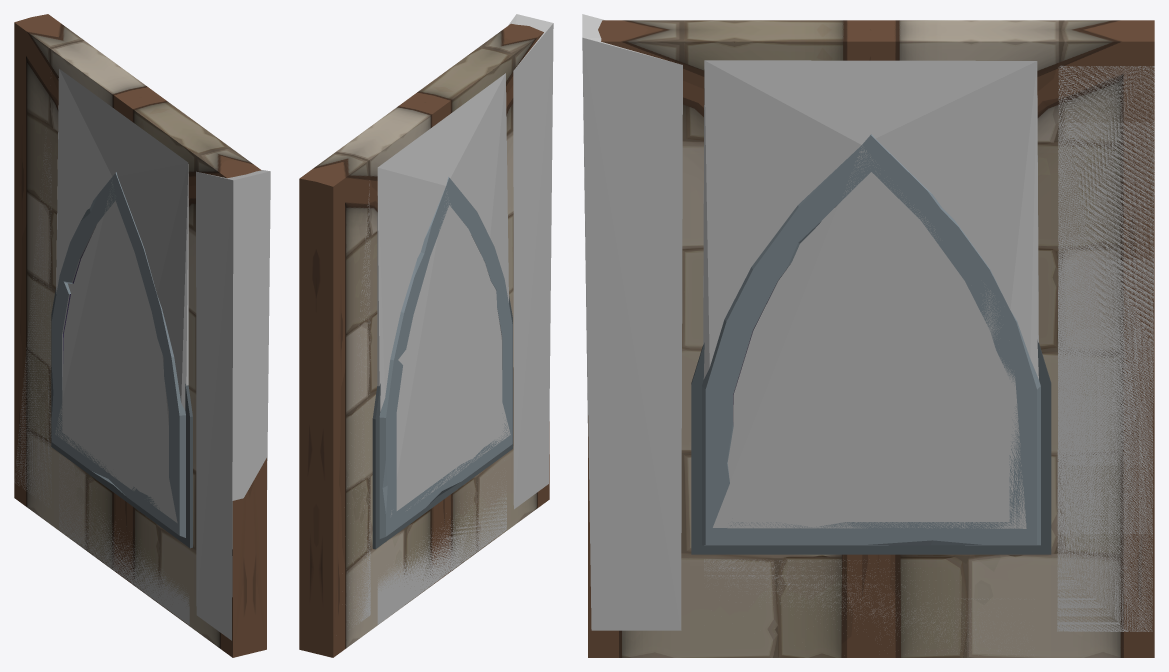
Rendered from SM_Bld_Window_04.fbx.
3 renders of one model, left to right at view 1: azimuth 30°, elevation 25°; view 2: azimuth 150°, elevation 25°; view 3: azimuth 270°, elevation 25°, orthographic. The views are drawn at different scales.
Visible parts, largest first — view 1: SM_Bld_Window_04_ConvexHulls, SM_Bld_Window_04; view 2: SM_Bld_Window_04, SM_Bld_Window_04_ConvexHulls; view 3: SM_Bld_Window_04_ConvexHulls, SM_Bld_Window_04.
Boxes of the visible parts, bbox=[...] form: SM_Bld_Window_04_ConvexHulls: bbox=[14, 69, 270, 640]; SM_Bld_Window_04: bbox=[14, 14, 266, 657]; SM_Bld_Window_04: bbox=[299, 23, 549, 657]; SM_Bld_Window_04_ConvexHulls: bbox=[349, 14, 553, 624]; SM_Bld_Window_04_ConvexHulls: bbox=[582, 14, 1154, 651]; SM_Bld_Window_04: bbox=[588, 20, 1154, 657].
Size of the model in its own units: 32.96 by 253 by 303.
Materials: 3 (2 with a texture image).
